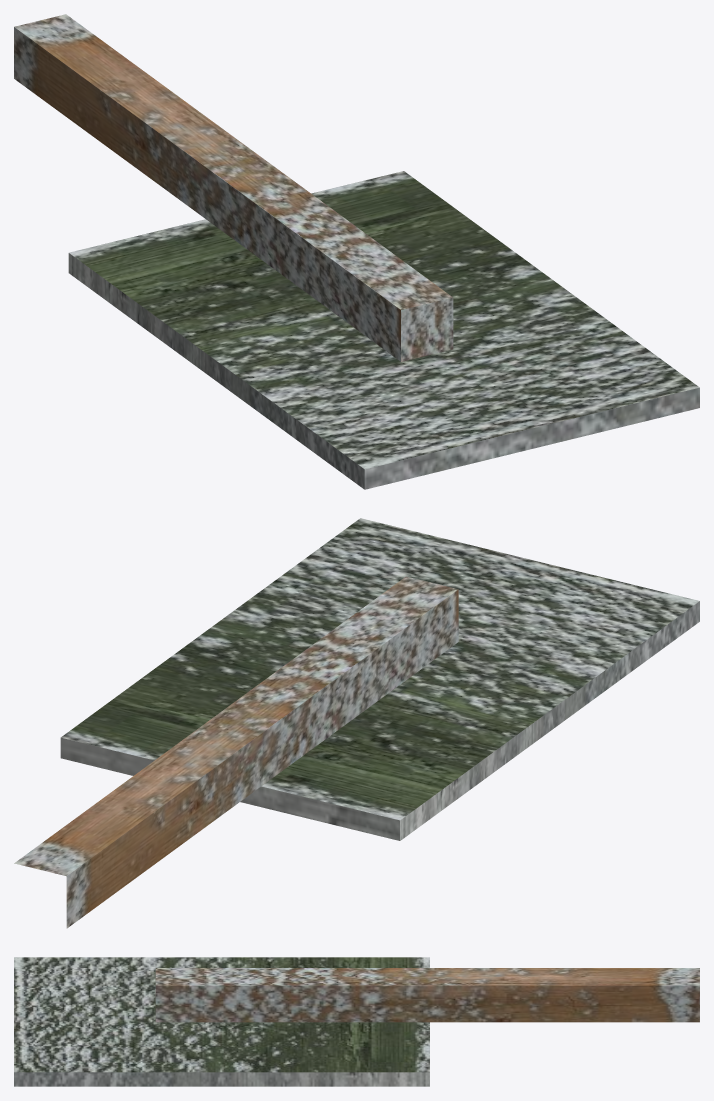
The model's file is sign_minefieldfake2_snow.glb.
3 renders of one model, top to bottom at view 1: azimuth 30°, elevation 25°; view 2: azimuth 150°, elevation 25°; view 3: azimuth 270°, elevation 25°, orthographic. The views are drawn at different scales.
Size of the model in its own units: 12 by 2.47 by 30.25.
2 materials, 2 textured.
